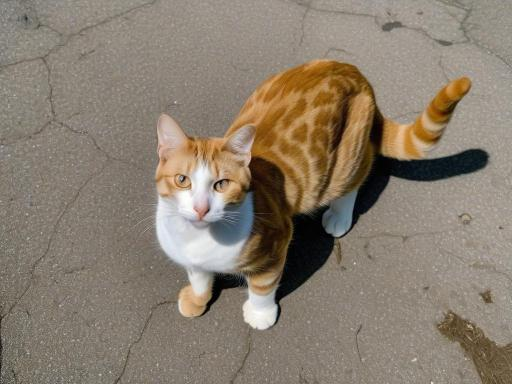cat_standing: (155, 60, 470, 329)
